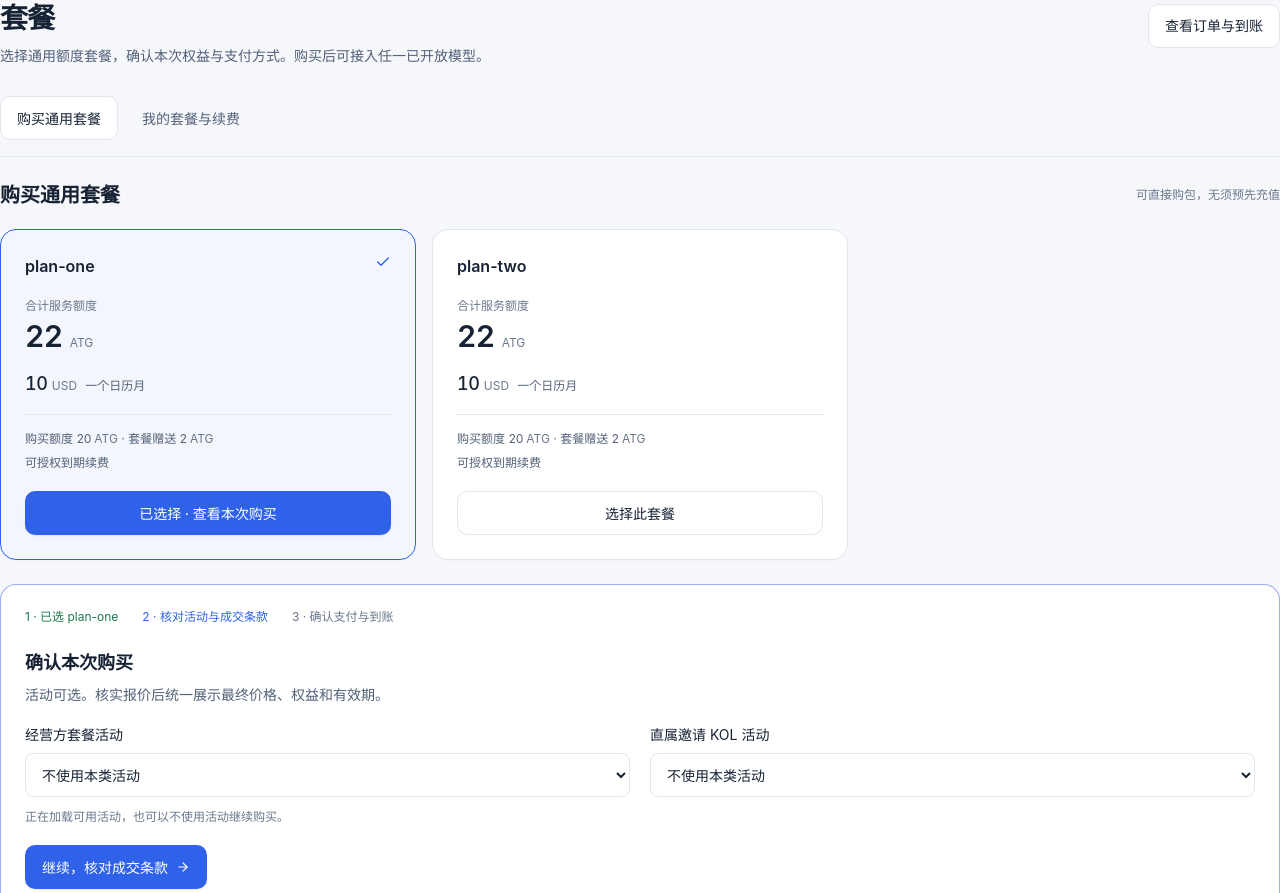
Test: blocks plan replacement and page links while a quote result is unknown
Click the button "继续，核对成交条款": (116,867) [25,845,207,889]
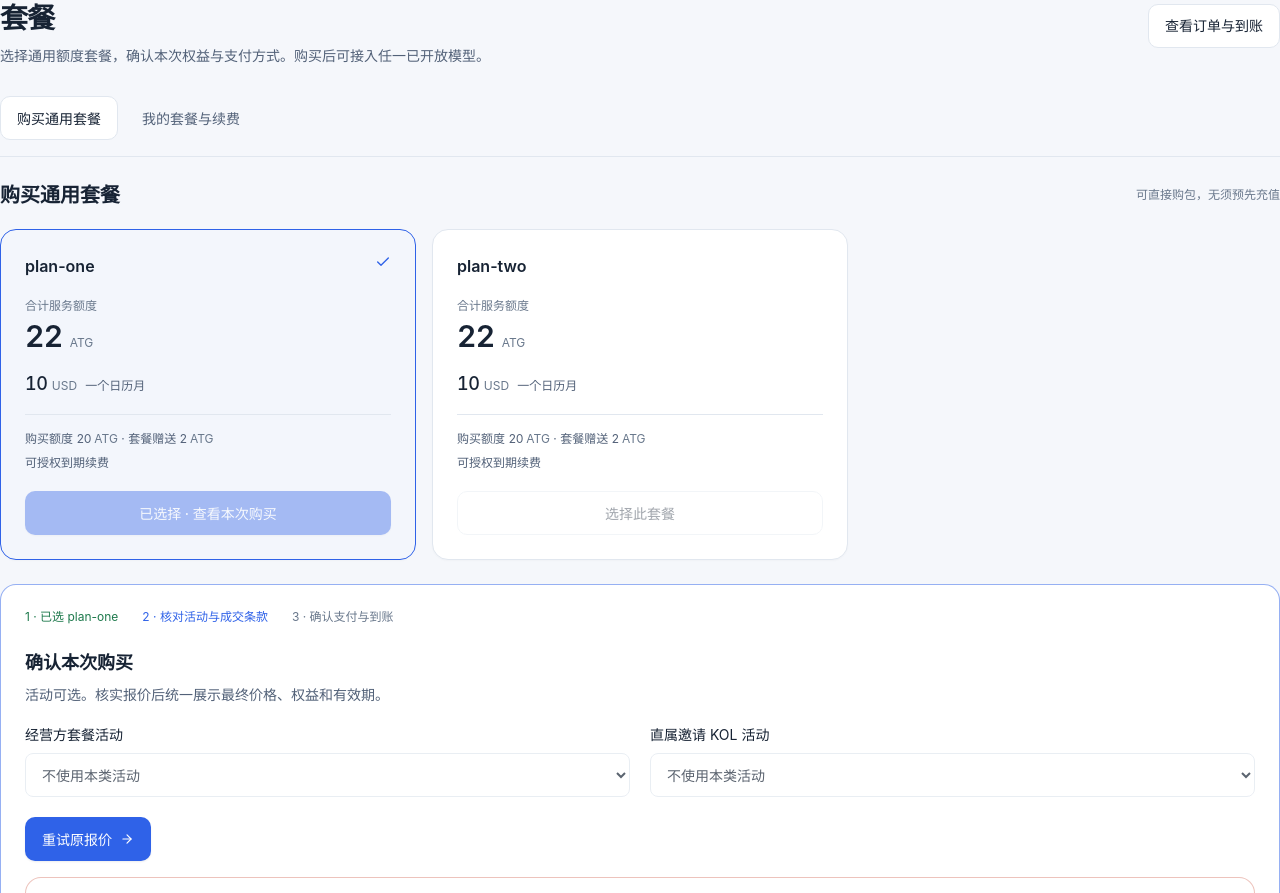
Check: the button "重试原报价" is shown, box [25,817,151,861]
Check: the button "选择此套餐" is disabled, box [457,491,823,535]
Click the link "查看订单与到账": (1214,26) [1148,4,1279,48]
(page scrolled)
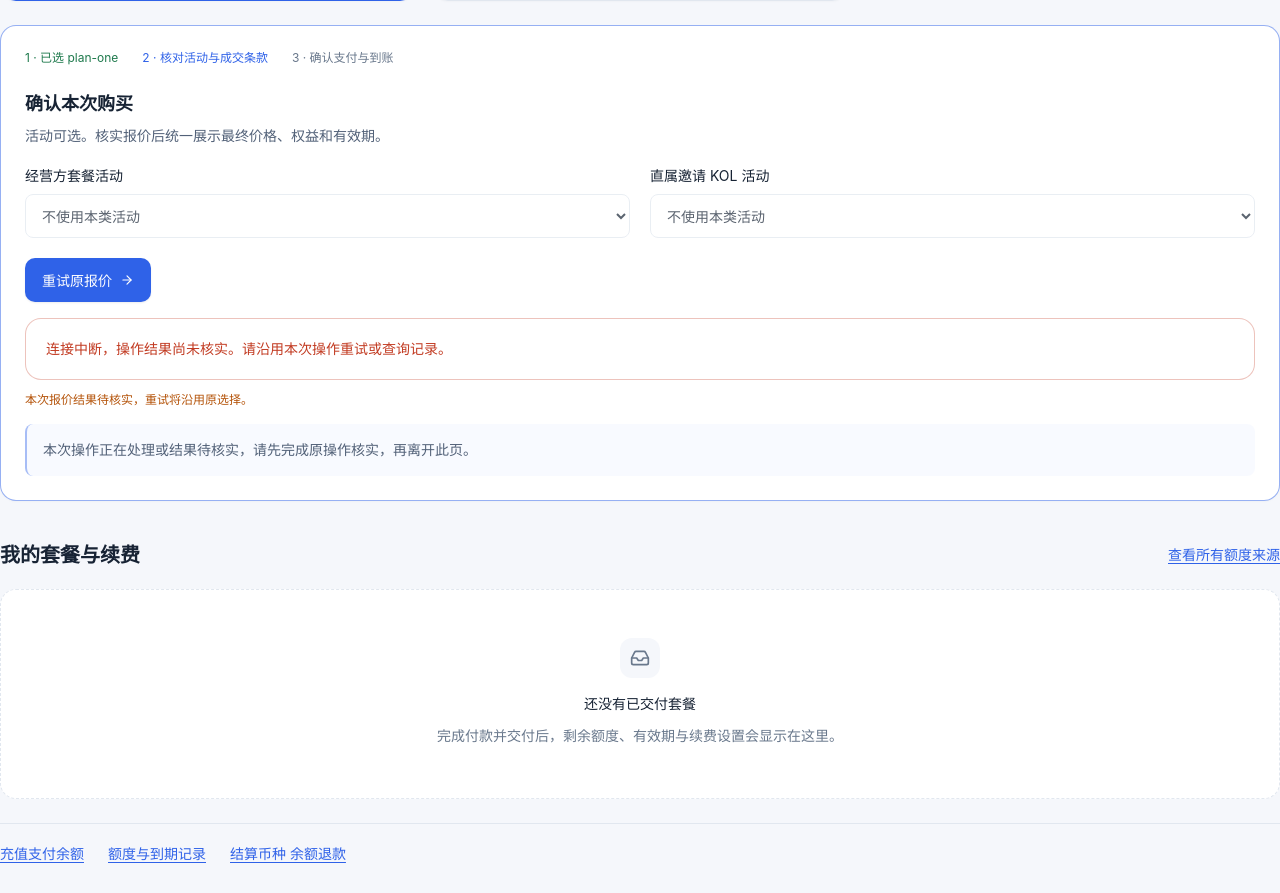
Check: the text "本次操作正在处理或结果待核实，请先完成原操作核实，再离开此页。" is shown, box [25,424,1255,476]
